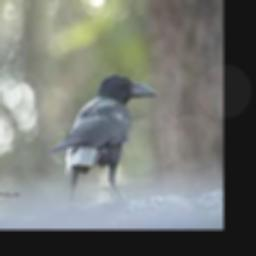Crow: (50, 74, 159, 204)
